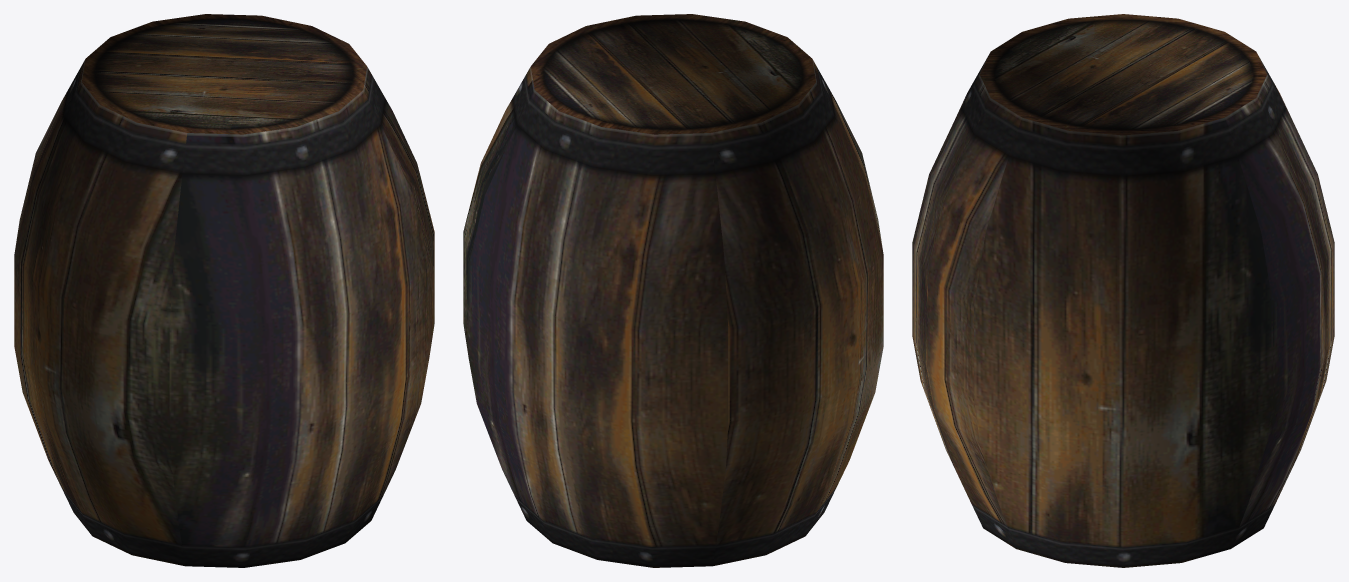
File: barrel1.fbx
3 views of the same model, side by side, from view 1: azimuth 30°, elevation 25°; view 2: azimuth 150°, elevation 25°; view 3: azimuth 270°, elevation 25° (orthographic).
Parts seen in each view (by area): view 1: barrel1; view 2: barrel1; view 3: barrel1.
Part boxes in pixels (x1=…): barrel1: x1=14, y1=14, x2=434, y2=567; barrel1: x1=463, y1=14, x2=883, y2=567; barrel1: x1=912, y1=14, x2=1334, y2=567.
Size of the model in its own units: 5000 by 5600 by 5000.
